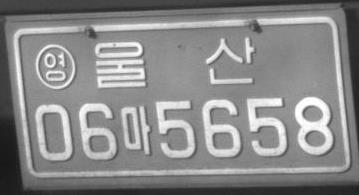0: (34, 103, 73, 162)
5: (245, 96, 288, 157), (154, 99, 197, 159)
6: (201, 98, 242, 158), (78, 102, 117, 160)
8: (294, 95, 334, 155)
마: (120, 104, 152, 155)
영: (35, 43, 76, 90)
울산_D: (94, 35, 255, 89)
